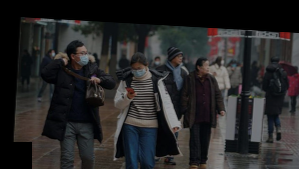with_mask: (75, 48, 88, 68), (130, 65, 145, 79), (153, 58, 160, 65), (230, 61, 237, 68), (219, 57, 224, 66), (50, 50, 55, 58)
without_mask: (173, 53, 183, 65), (200, 62, 209, 75)
